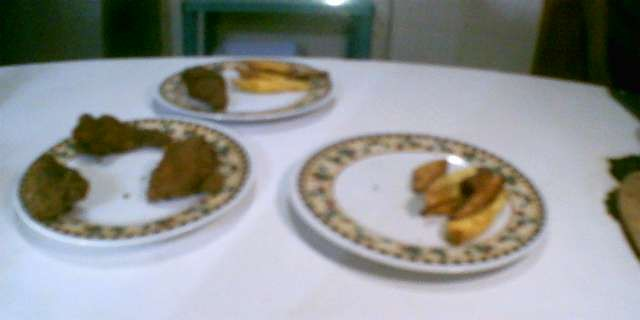chicken: (139, 130, 238, 211), (66, 105, 174, 160), (22, 149, 92, 224), (179, 63, 237, 113)
potatoe_fries: (406, 147, 512, 246), (230, 57, 334, 98)
